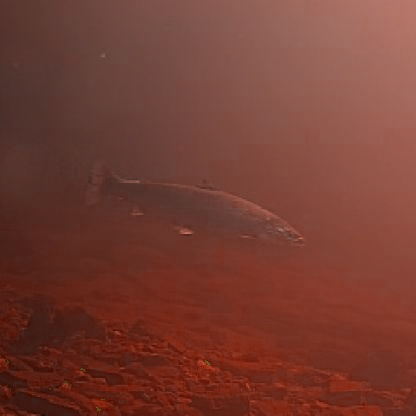salmon: (74, 147, 307, 250)
